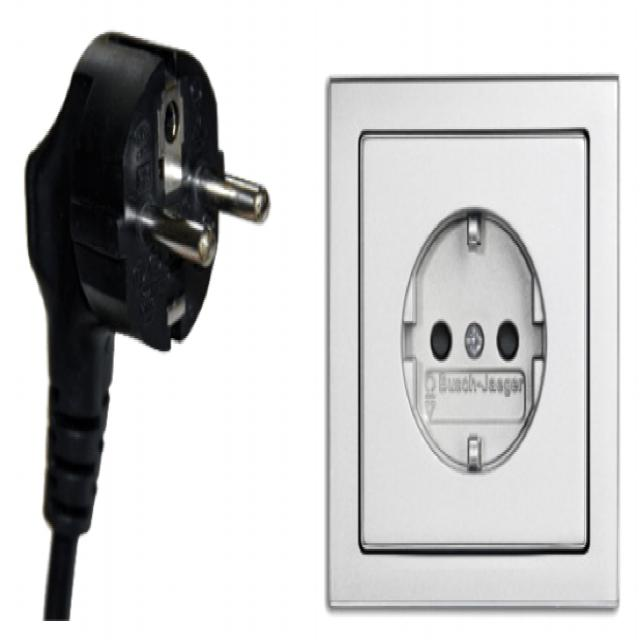typeb: (310, 60, 631, 620)
